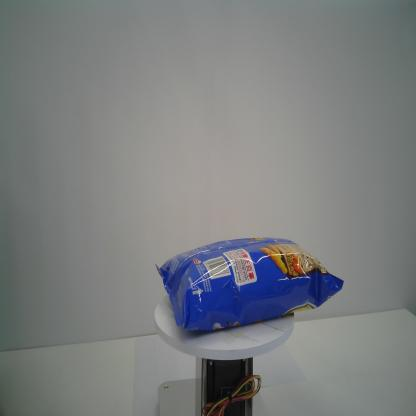Puffed Food: (154, 235, 345, 333)
